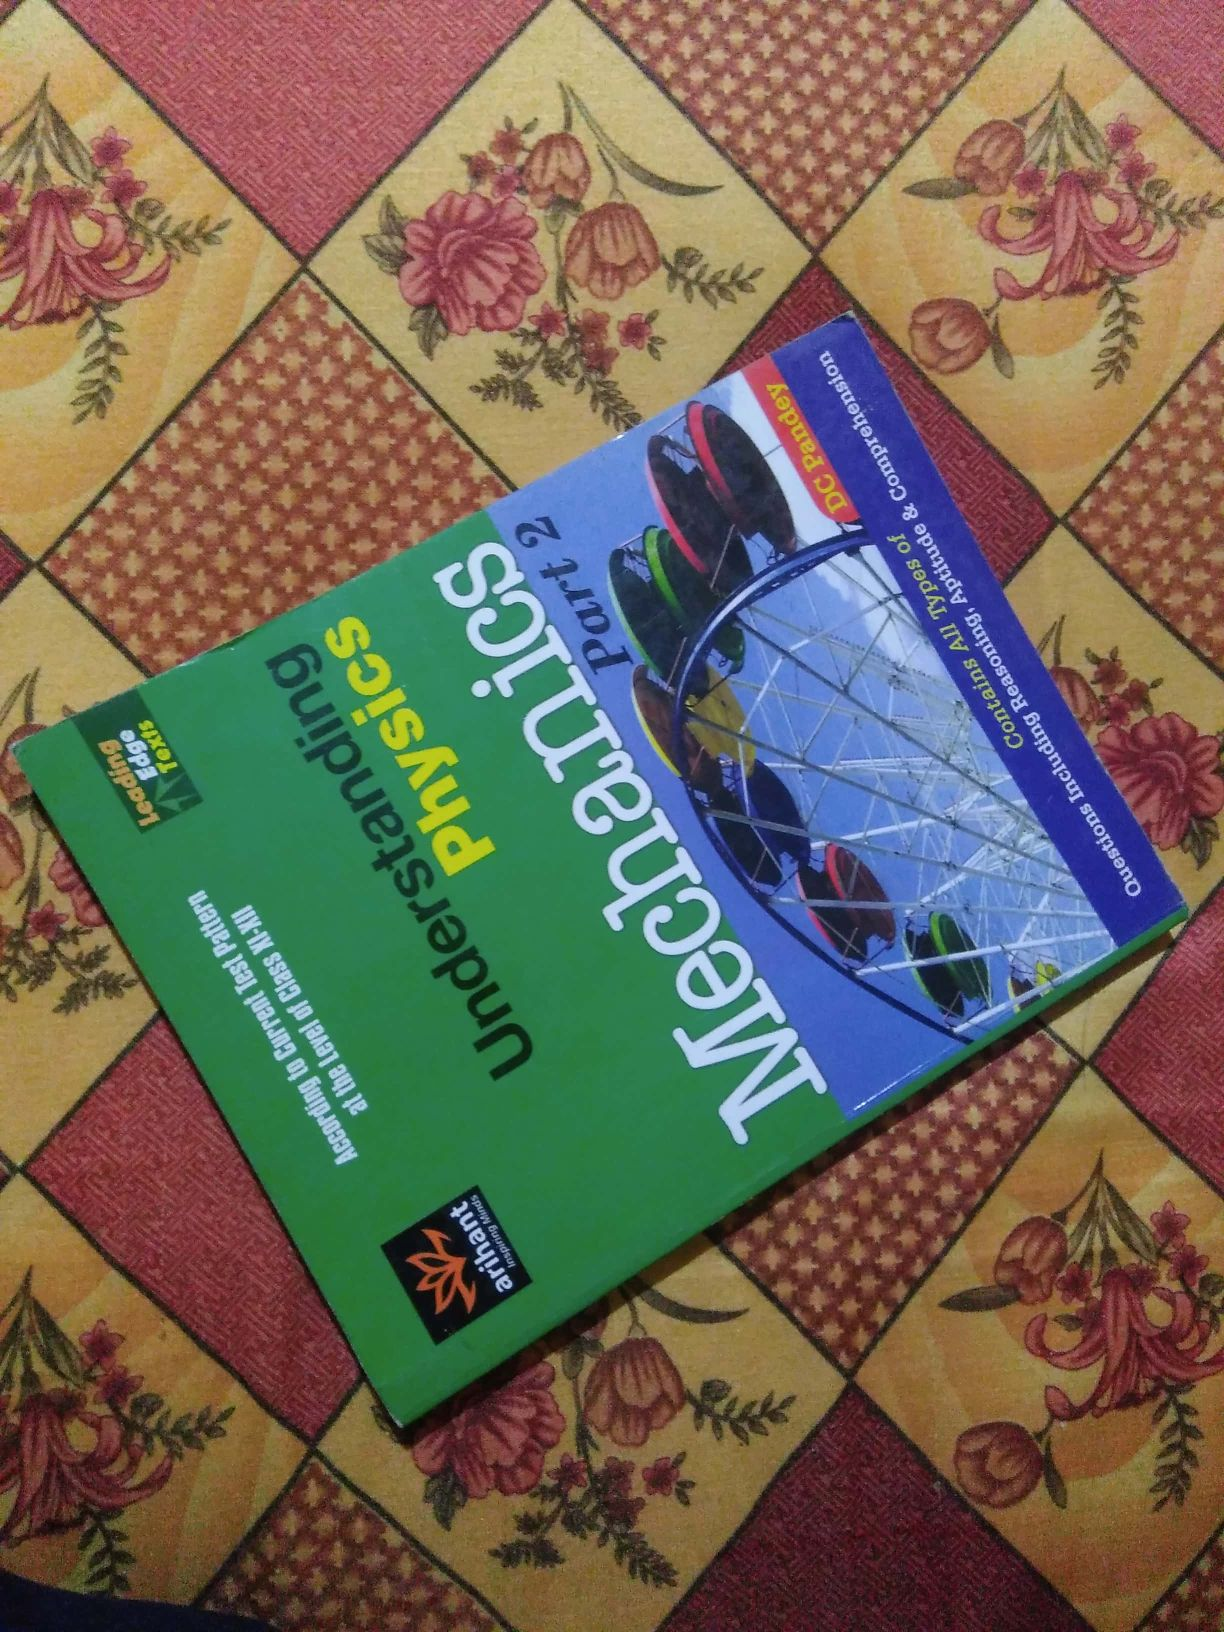mechanics: (31, 402, 1119, 1405)
